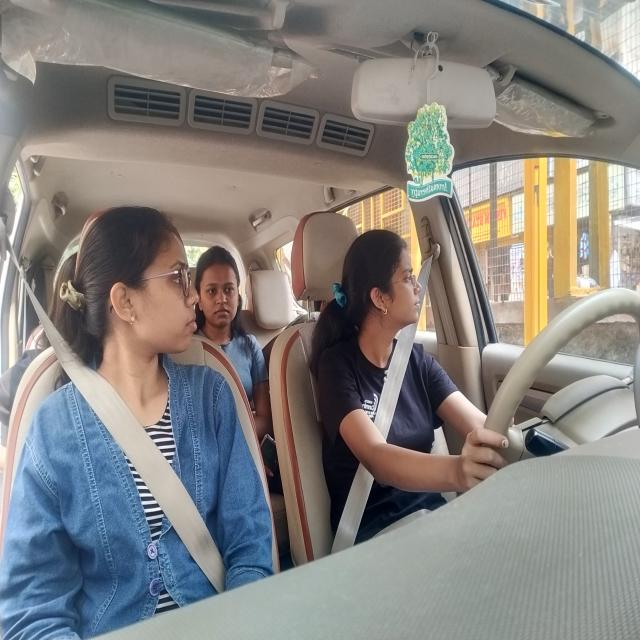LeftRight: (363, 239, 424, 333)
person: (100, 198, 203, 361), (194, 248, 243, 332)
